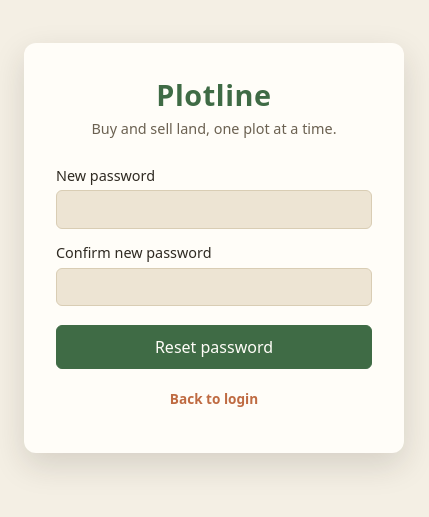
ResetPasswordPage › rejects a password shorter than 8 characters
Type "short" into the password field labelled "New password" at (214,209), box [56,190,372,229]
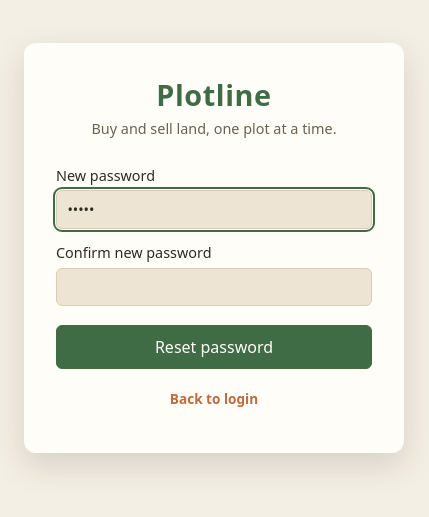
Type "short" into the password field labelled "Confirm new password" at (214,287), box [56,268,372,306]
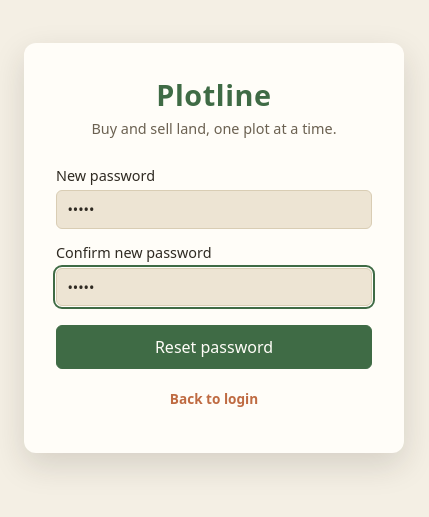
Click the button "Reset password" at (214,347), box [56,326,372,369]
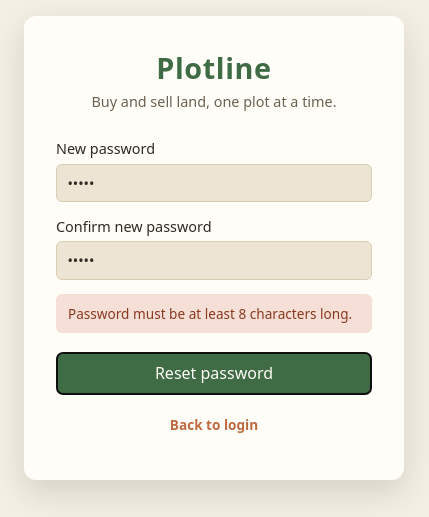
Now the text "Password must be at least 8 characters long." is shown, box [56,294,372,333]
